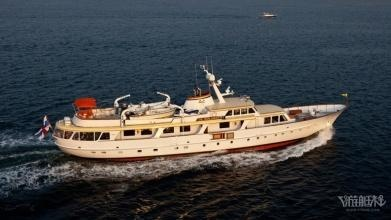otherboat: (46, 75, 350, 164)
